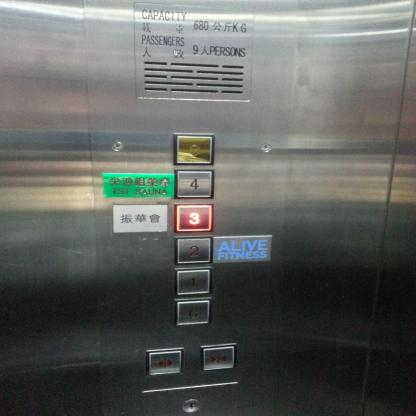1: (172, 266, 214, 297)
2: (172, 235, 214, 266)
3: (172, 202, 215, 235)
4: (172, 168, 216, 200)
G: (173, 297, 213, 328)
alarm: (170, 131, 216, 167)
close: (198, 341, 238, 374)
keyhole: (181, 396, 202, 414)
open: (144, 346, 185, 377)
